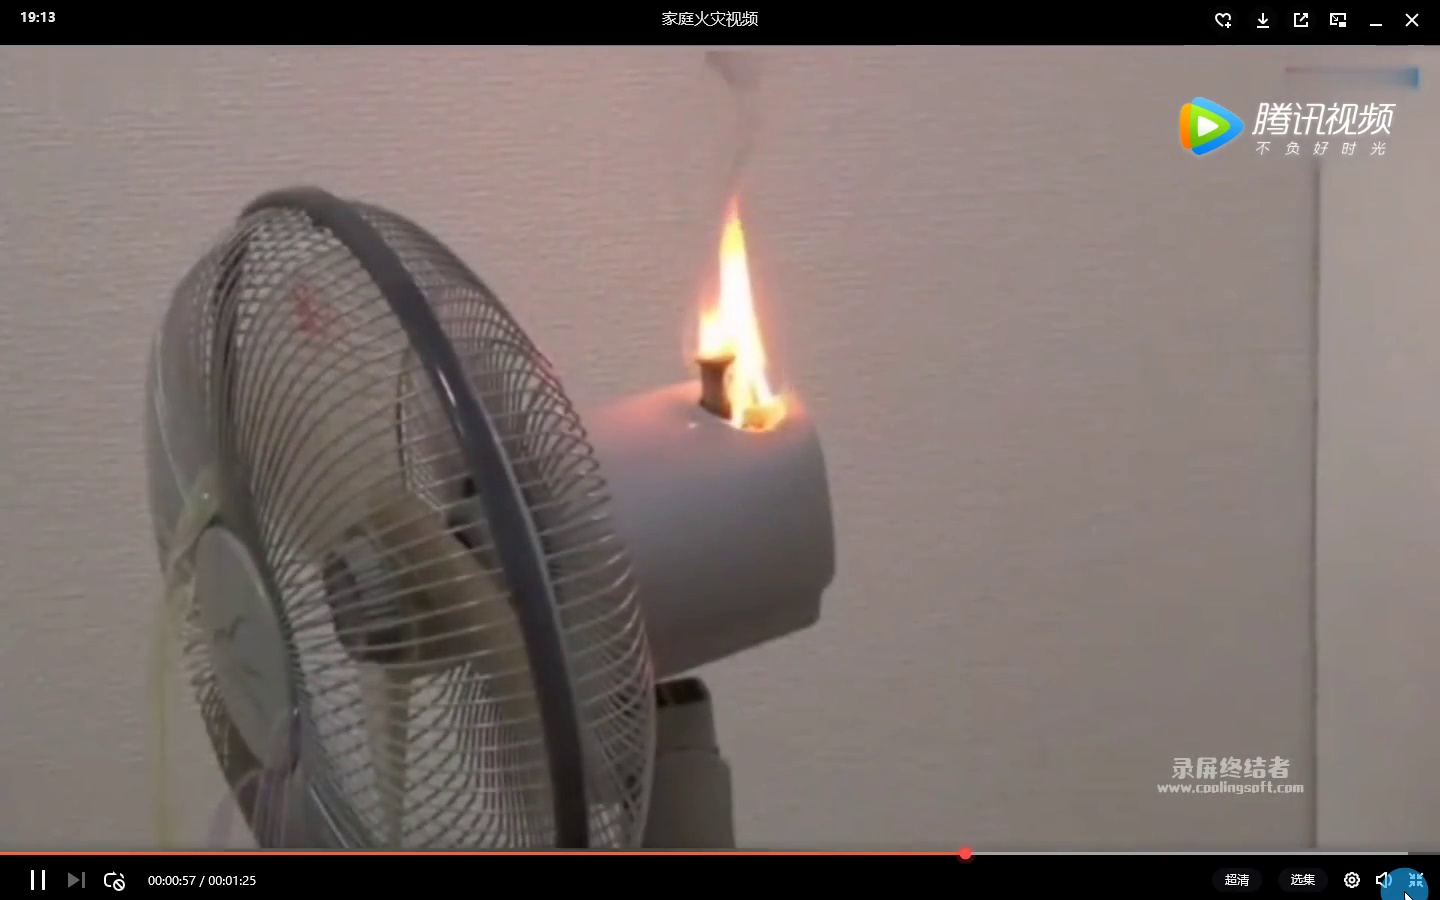fire: (691, 195, 804, 430)
